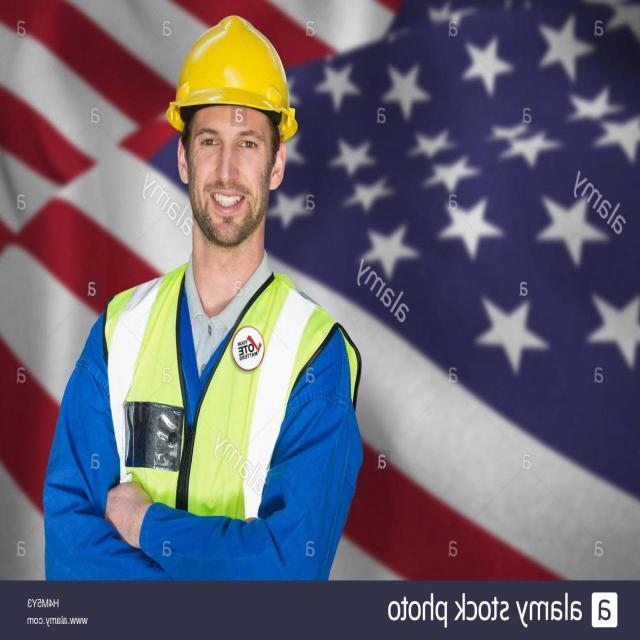reflective_jacket: (96, 266, 360, 529)
safety_helmet: (163, 13, 298, 139)
